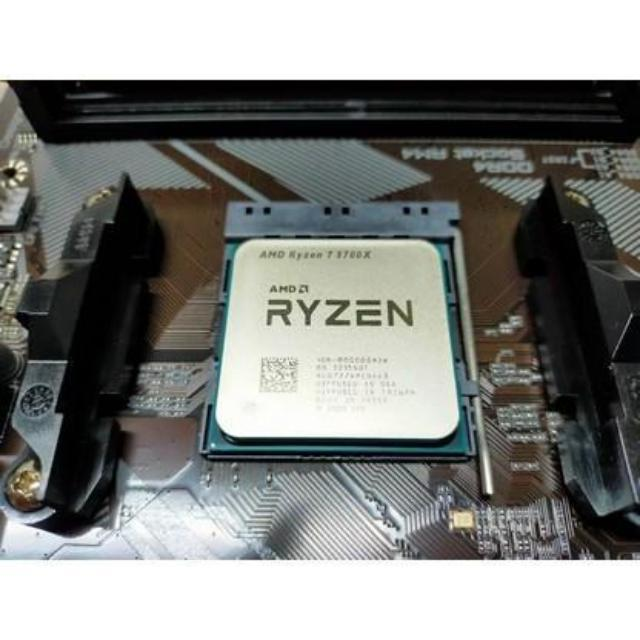CPU: (211, 234, 471, 449)
